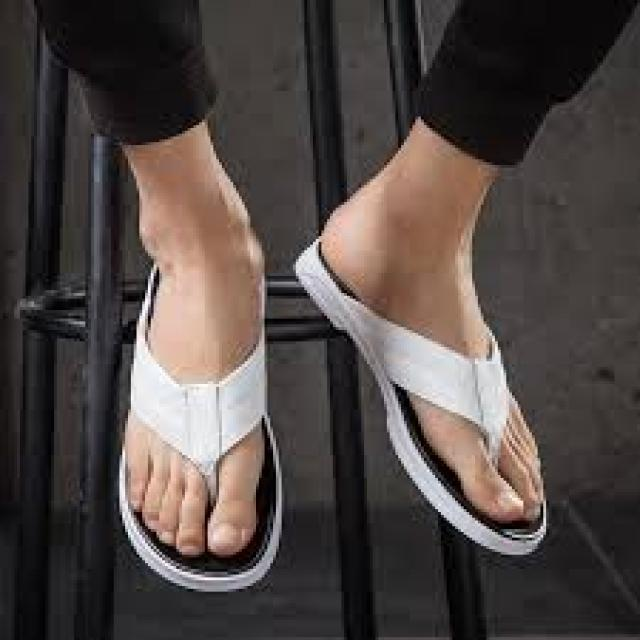Sandals: (134, 221, 286, 584), (404, 222, 549, 549)
